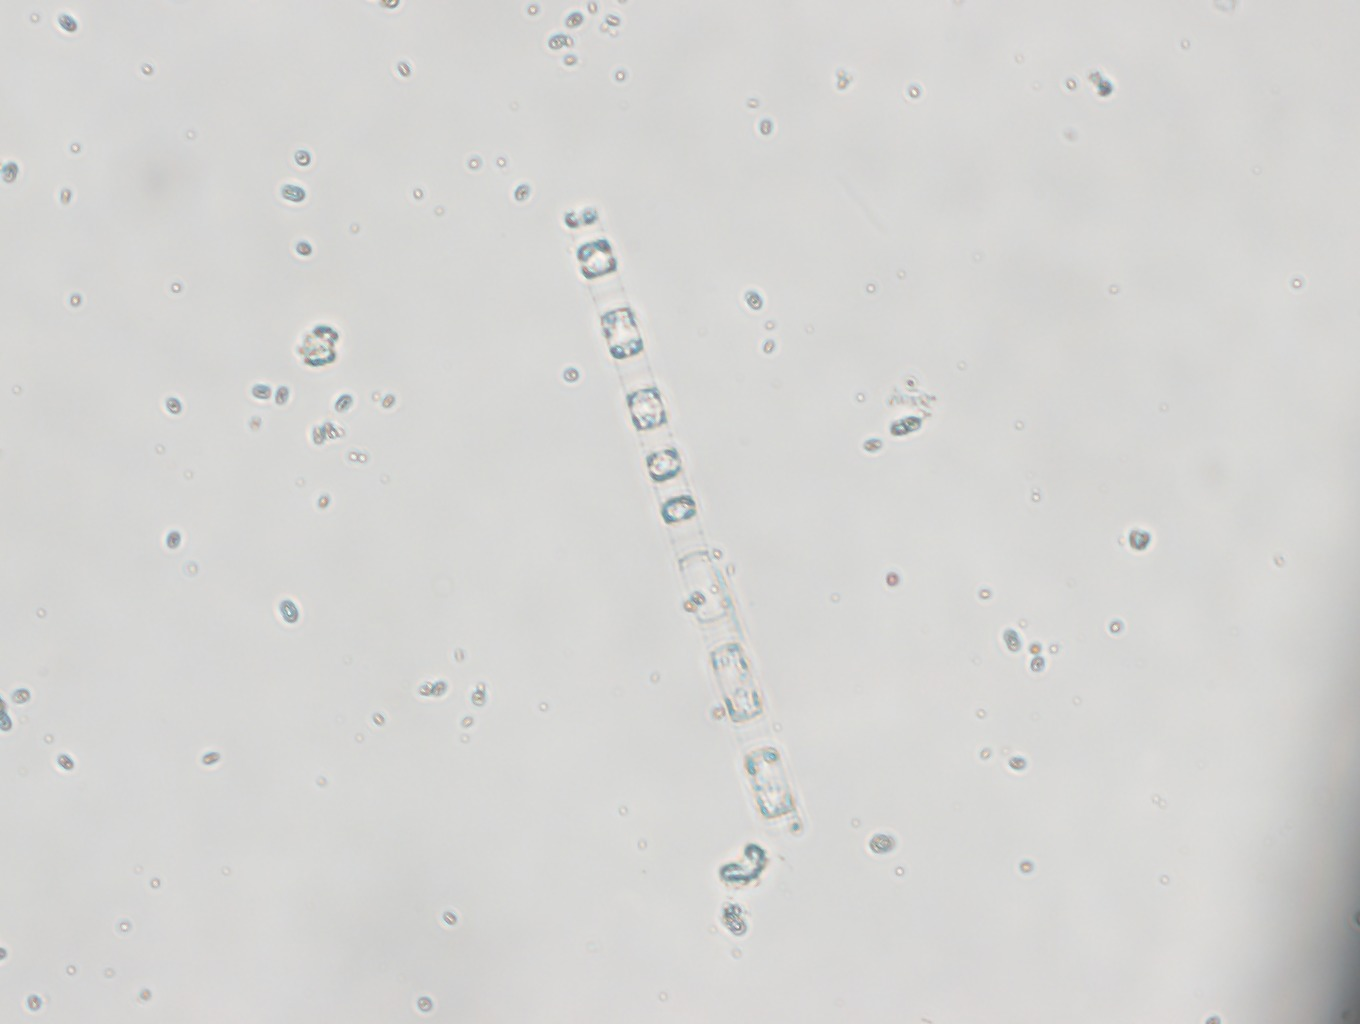skeletonema: (555, 203, 808, 833)
